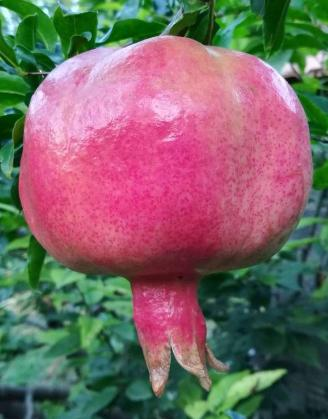pomegranate_A: (17, 34, 314, 399)
